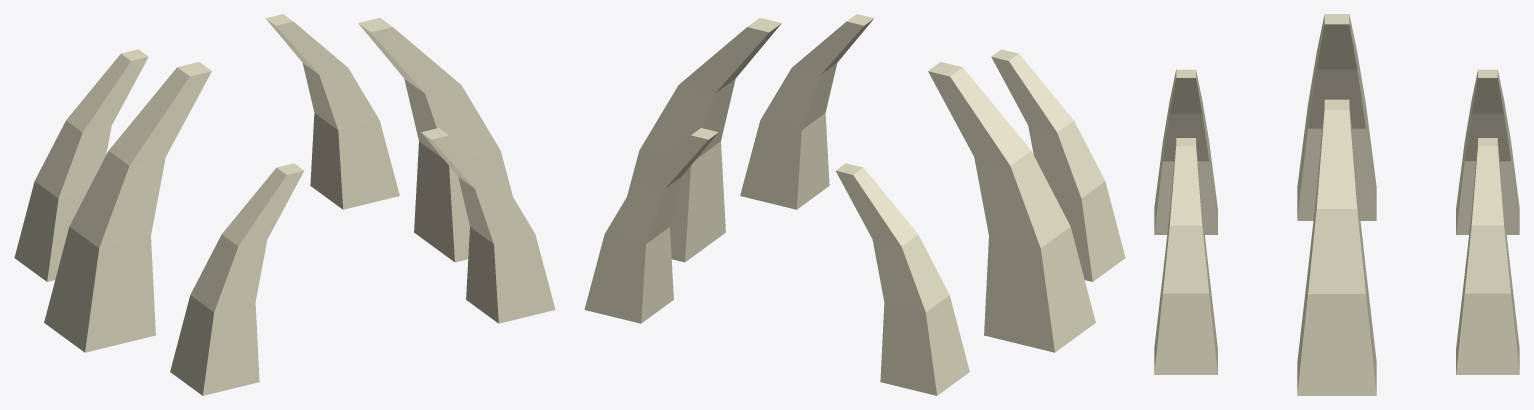
File: alienbones.glb
3 views of the same model, side by side, from view 1: azimuth 30°, elevation 25°; view 2: azimuth 150°, elevation 25°; view 3: azimuth 270°, elevation 25° (orthographic). The views are drawn at different scales.
Parts seen in each view (by area): view 1: alienBones; view 2: alienBones; view 3: alienBones.
Boxes of the visible parts, box(x1,y1,x2,y2) form: alienBones: box(14, 14, 555, 395); alienBones: box(584, 14, 1125, 395); alienBones: box(1154, 14, 1519, 395).
Size of the model in its own units: 8.61 by 4.42 by 6.38.
